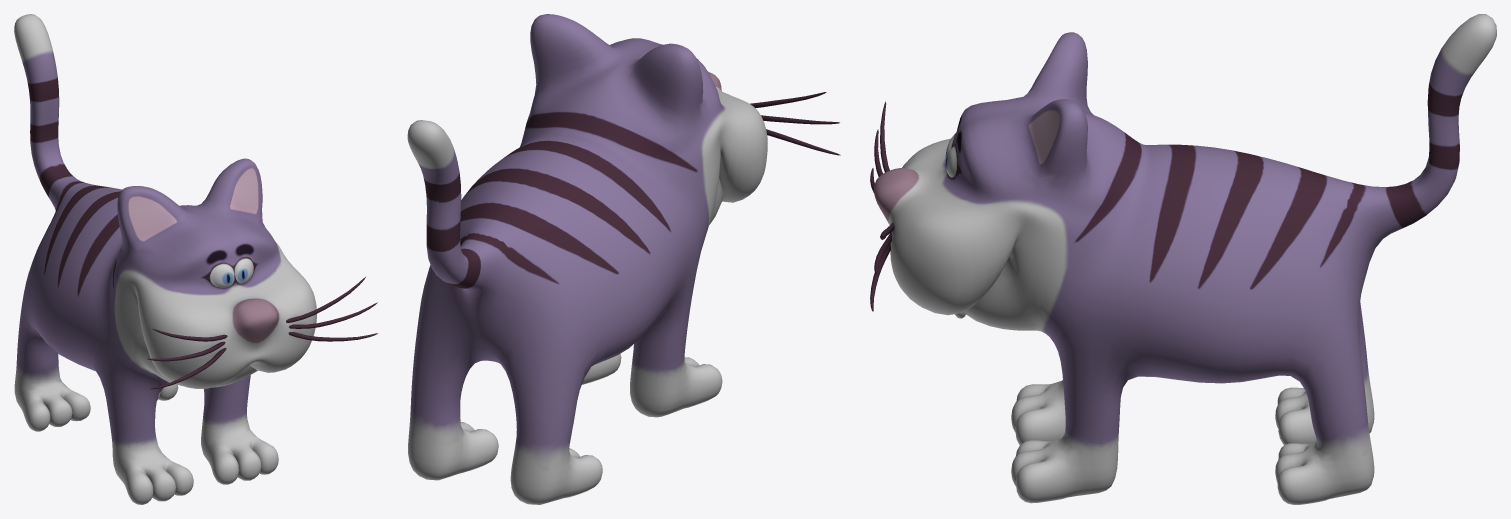
Rendered from cat.glb.
The picture shows the model from 3 angles, left to right: view 1: azimuth 30°, elevation 25°; view 2: azimuth 150°, elevation 25°; view 3: azimuth 270°, elevation 25°; orthographic projection. The views are drawn at different scales.
Visible parts, largest first — view 1: CartoonCat; view 2: CartoonCat; view 3: CartoonCat.
Boxes of the visible parts, x1,y1,x2,y2 form: CartoonCat: [14, 14, 377, 504]; CartoonCat: [407, 14, 840, 504]; CartoonCat: [870, 14, 1496, 504].
Bounding box in the file's own units: 2.73 × 3.9 × 4.95.
Materials: 1 (1 with a texture image).
